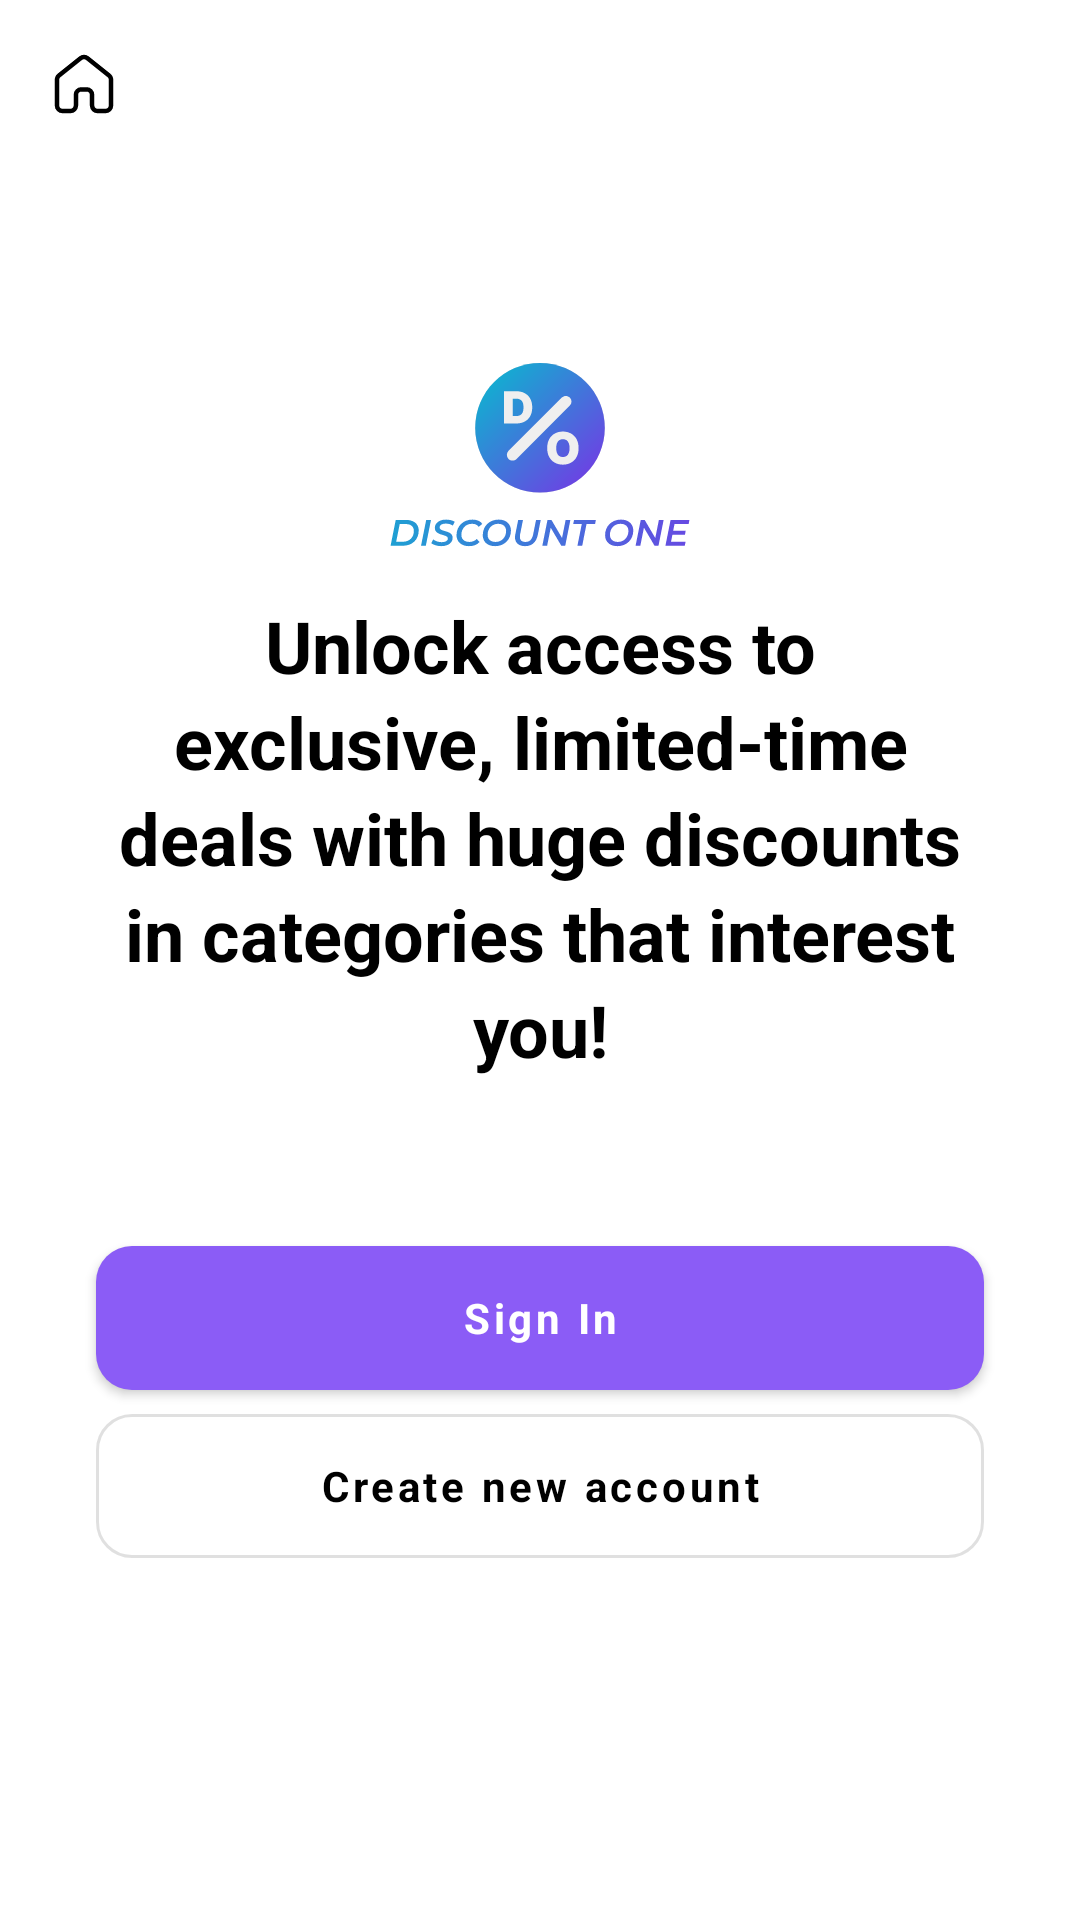

Locate icon controls on the screen. Image size 1080×1920, boxes as [x1,y1,x2,y2].
home: [54,54,114,114]
